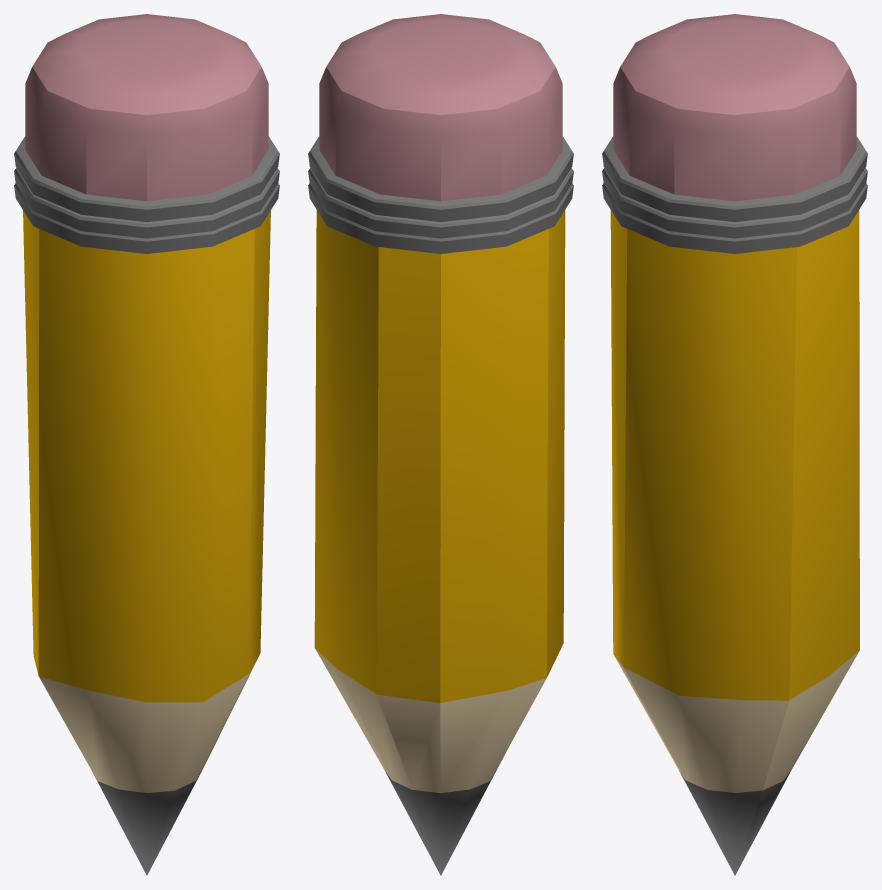
Rendered from Pencill_4.fbx.
3 renders of one model, left to right at view 1: azimuth 30°, elevation 25°; view 2: azimuth 150°, elevation 25°; view 3: azimuth 270°, elevation 25°, orthographic.
Visible parts, largest first — view 1: Pencill_4; view 2: Pencill_4; view 3: Pencill_4.
Boxes of the visible parts, bbox=[...] form: Pencill_4: bbox=[14, 14, 279, 875]; Pencill_4: bbox=[308, 14, 573, 875]; Pencill_4: bbox=[602, 14, 867, 875].
Bounding box in the file's own units: 0.0323 × 0.1107 × 0.0323.
